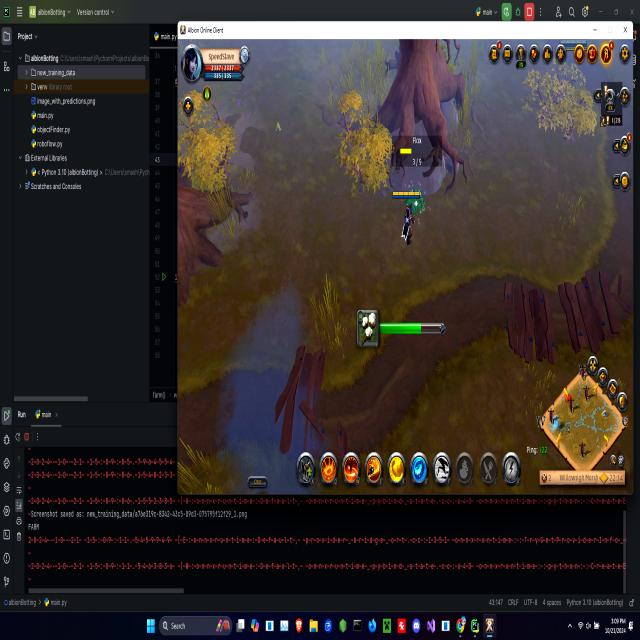hide: (404, 184, 426, 224)
red: (392, 188, 422, 252)
